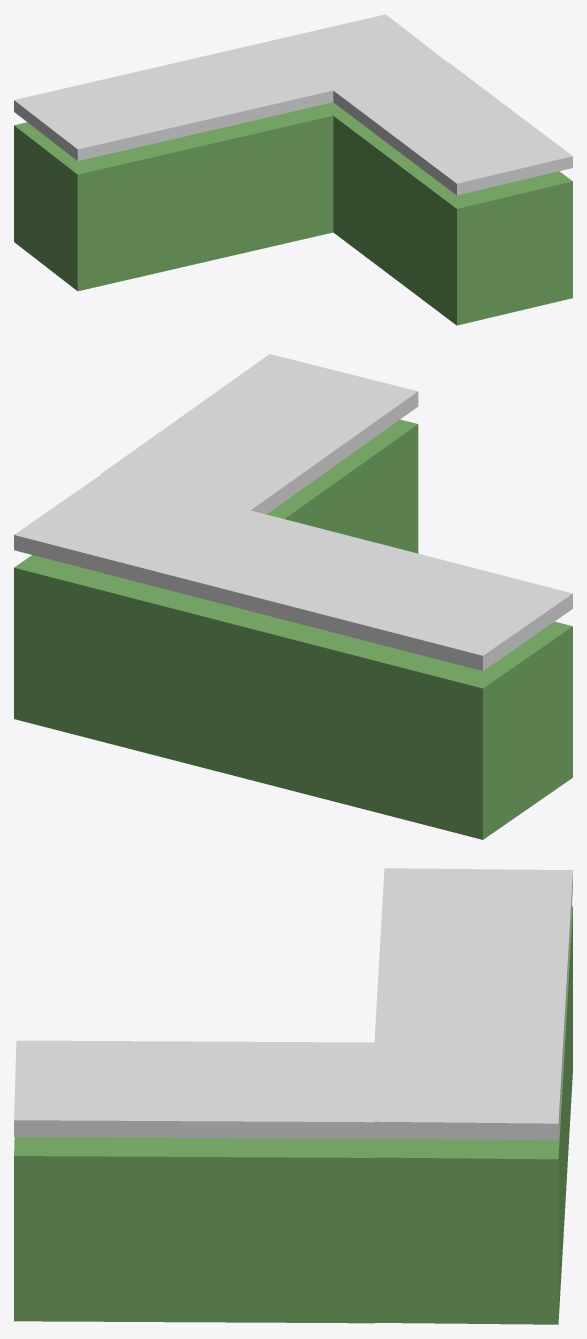
File: mesa caja registradora.glb
3 views of the same model, one above another, from view 1: azimuth 30°, elevation 25°; view 2: azimuth 150°, elevation 25°; view 3: azimuth 270°, elevation 25° (orthographic). The views are drawn at different scales.
Visible parts, largest first — view 1: Cubo.008; view 2: Cubo.008; view 3: Cubo.008.
Boxes of the visible parts, left/top/right/bottom form: Cubo.008: left=14, top=14, right=572, bottom=325; Cubo.008: left=14, top=354, right=572, bottom=839; Cubo.008: left=14, top=868, right=572, bottom=1324.
Size of the model in its own units: 4.61 by 1.69 by 4.26.
